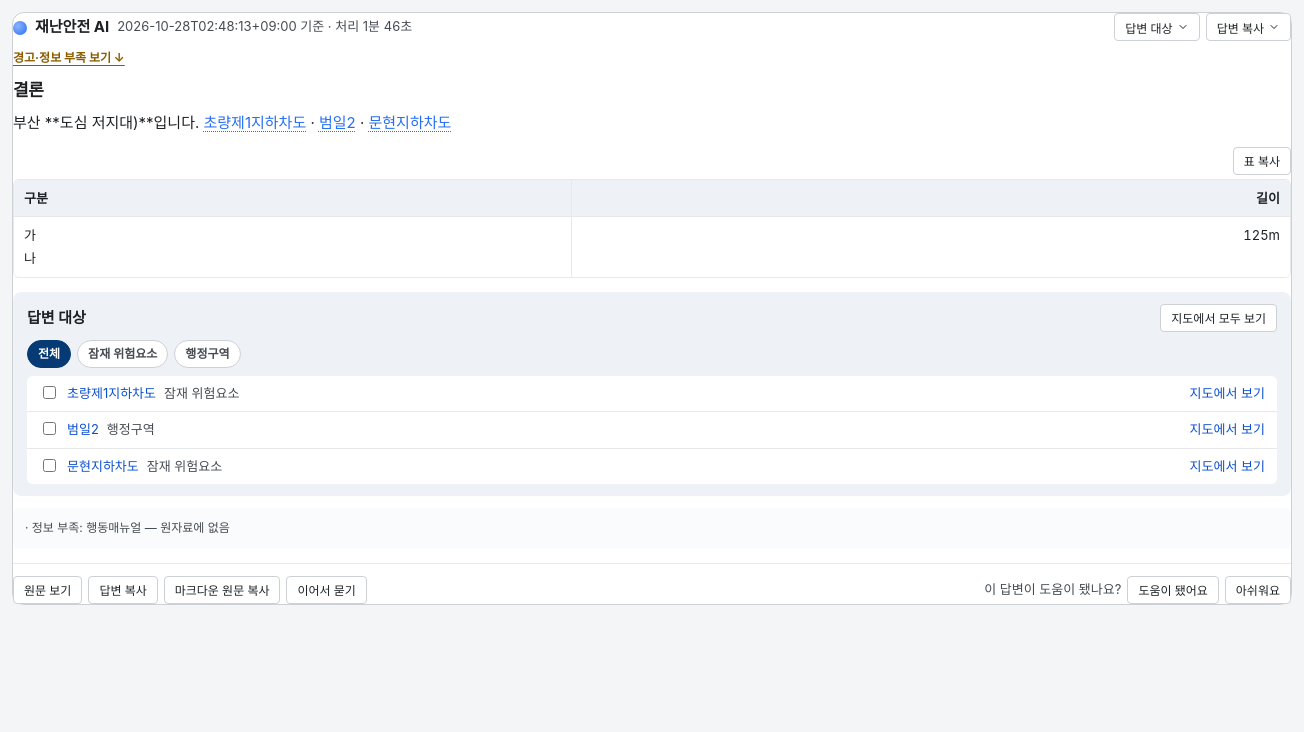
Test case: C3 — 답변 대상 종류 거르기(개수 없음) › 머리 도구 「답변 대상」: 종류를 고르면 목록을 거르고 목록으로 간다
The image size is (1304, 732).
Step 1. Click the button "답변 대상" → (1157, 27), box x1=1114 y1=13 x2=1200 y2=41
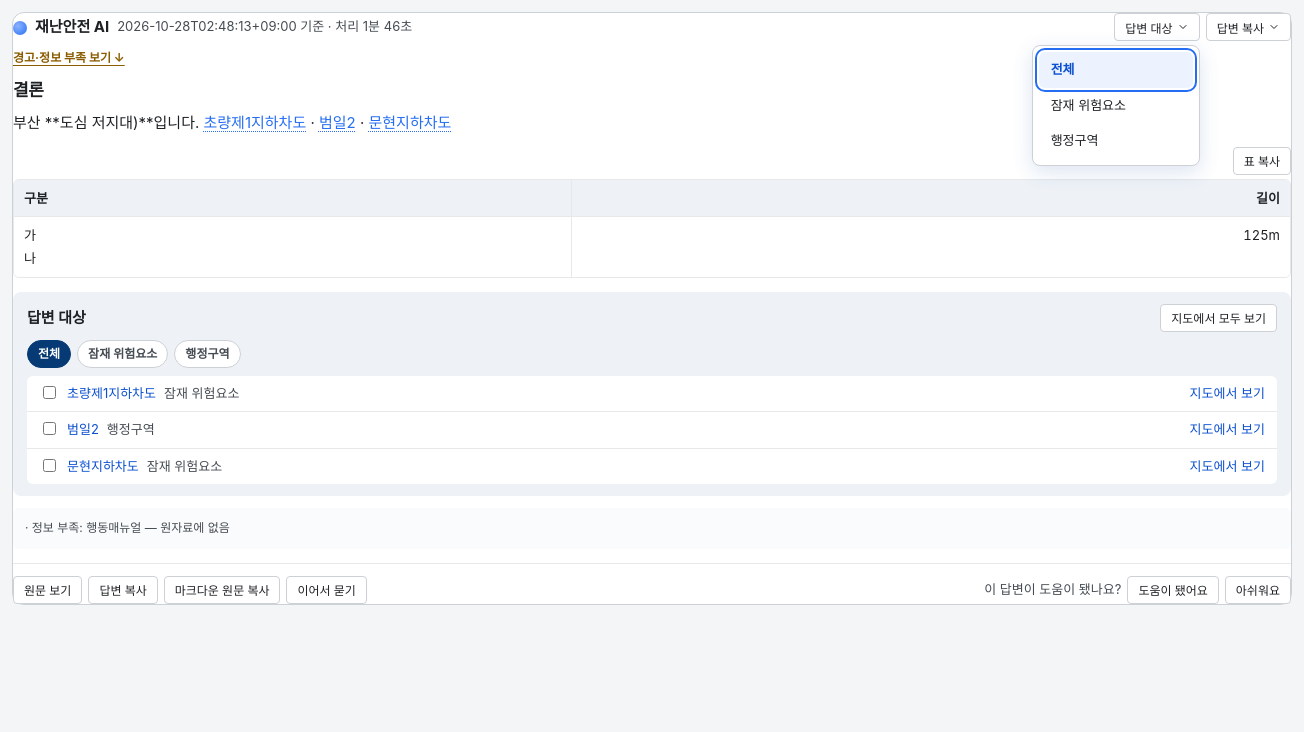
Step 2. Click the menu item "잠재 위험요소" → (1116, 105), box x1=1039 y1=88 x2=1193 y2=123
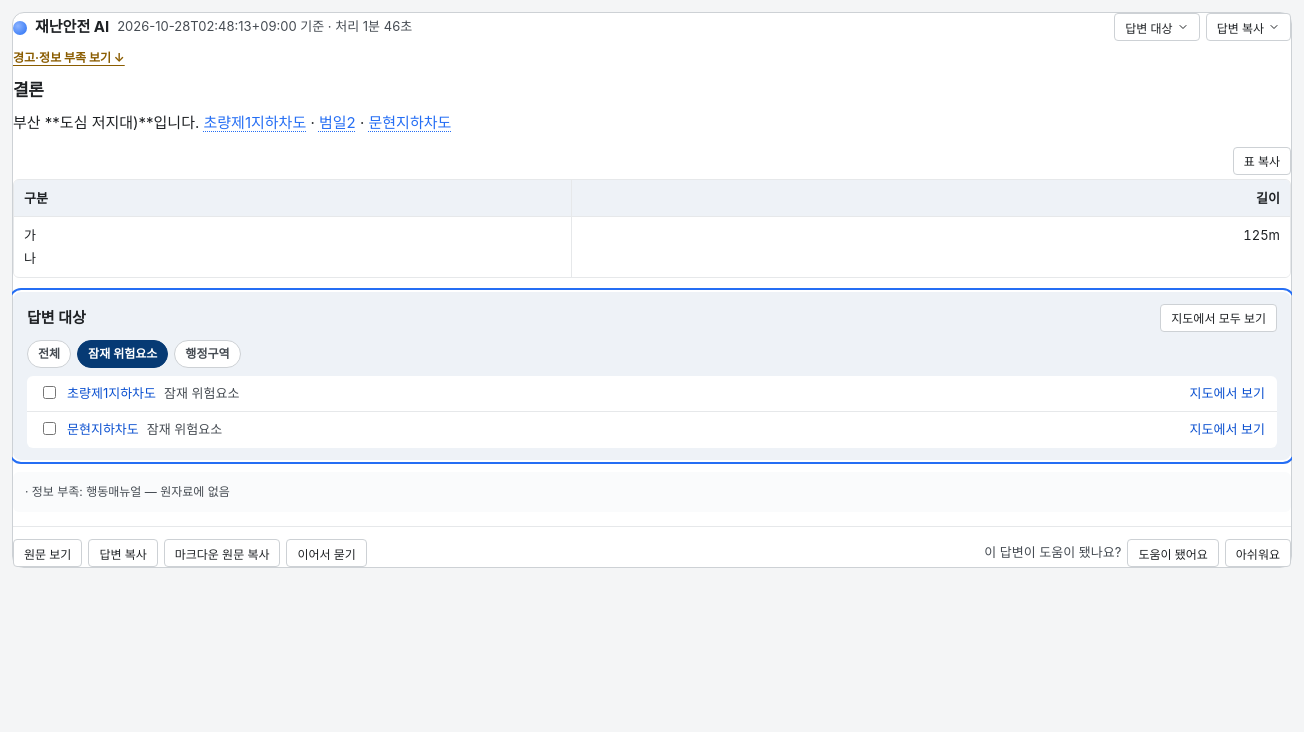
Expected: the menu is gone
